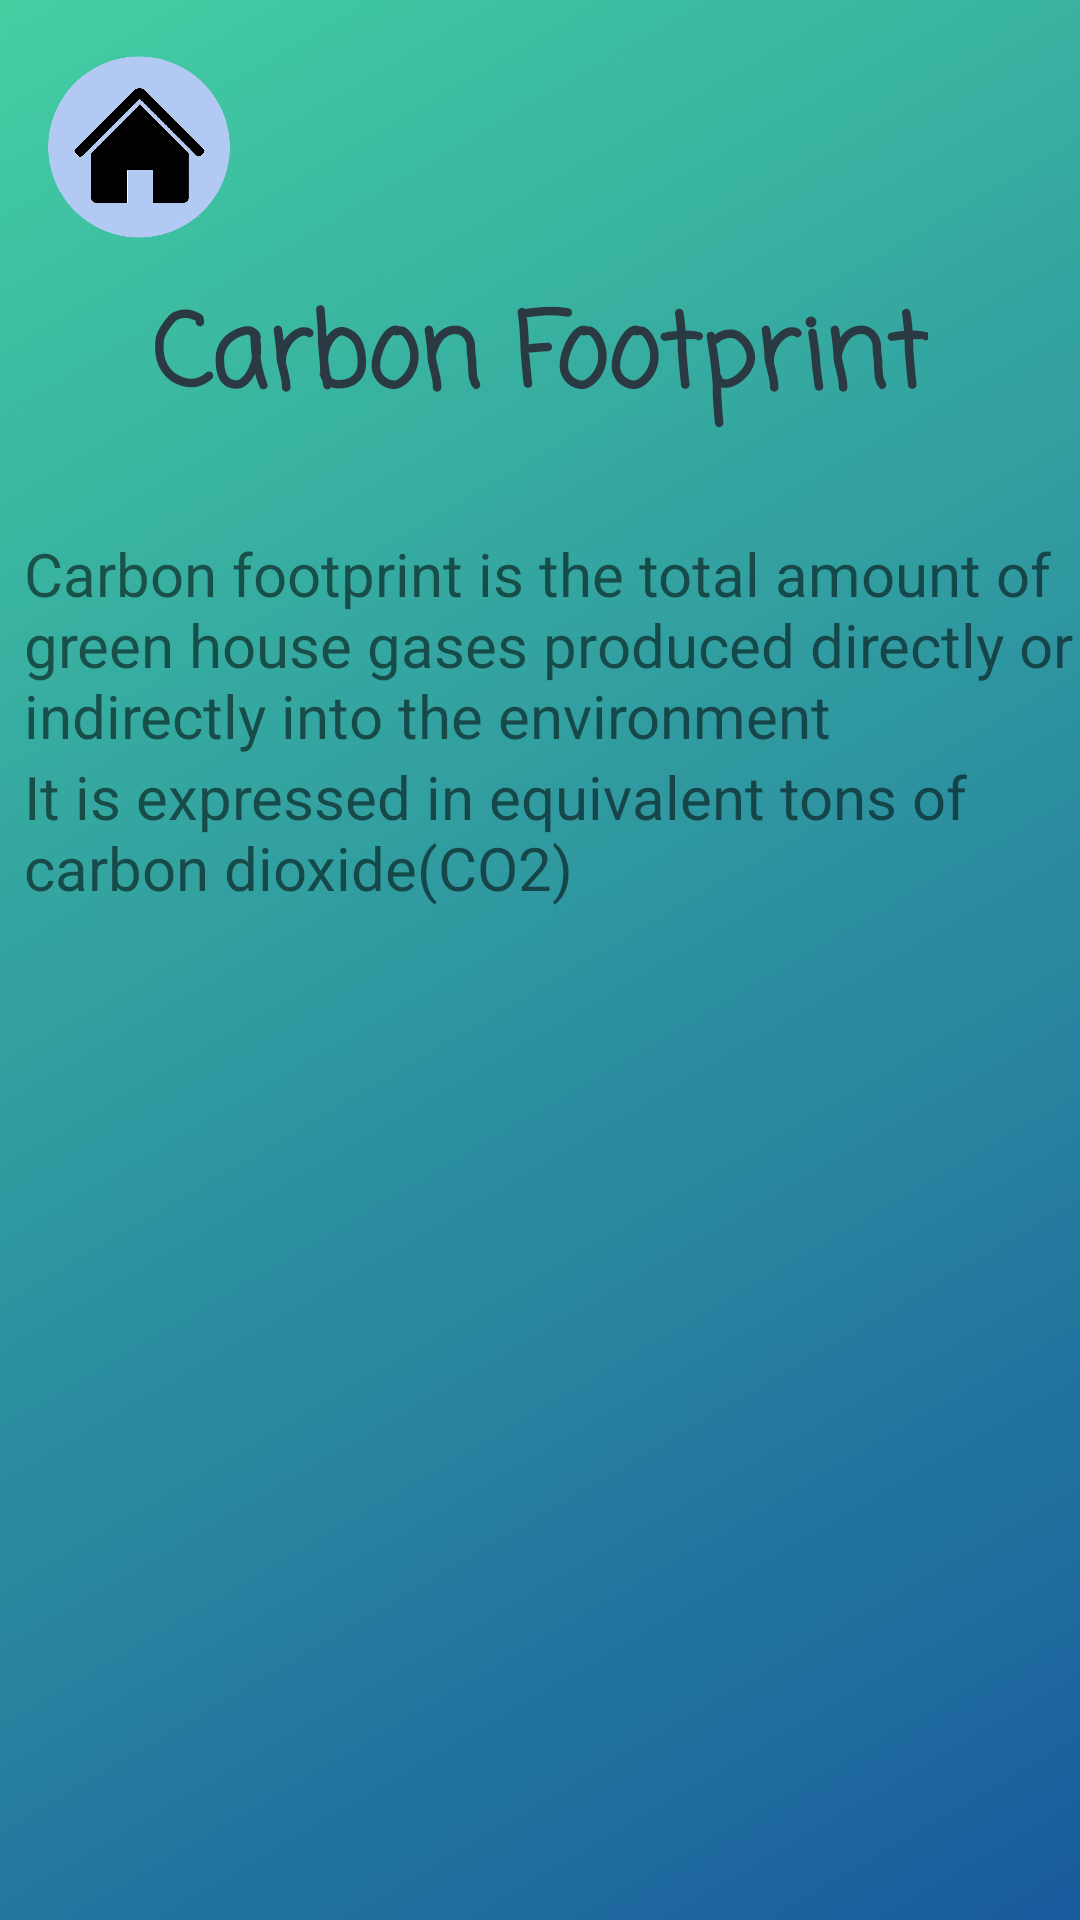

Named icons in this screenshot (1080px x 1920px) and their centers, (x,y):
home: (139,147)
